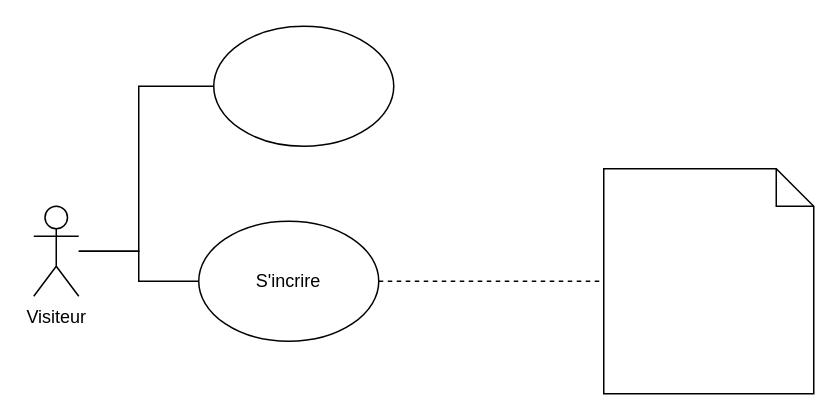
The diagram is 840 pixels wide and 420 high, and some of its shapes have lost their labels. Here are the shapes that lost their labels. From the top down, the centre of each, then its label:
the point at 303,85: Consulter les nouveautés
the point at 708,280: Nom Prenom Adresse Num Tel Email
